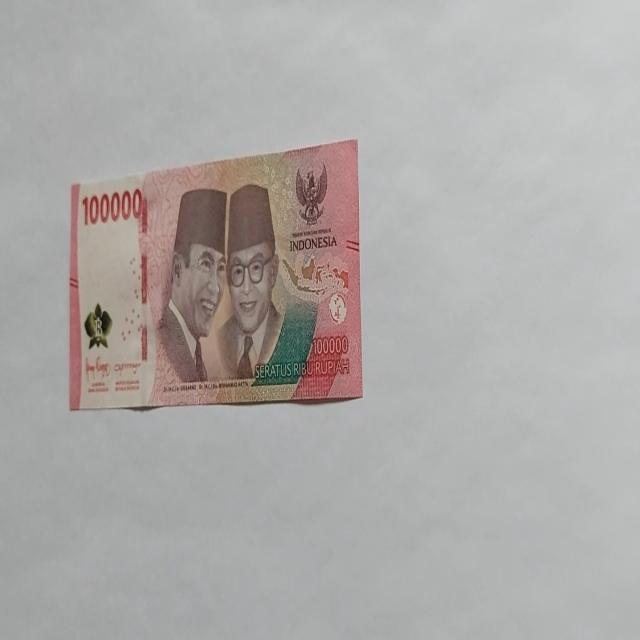seratus ribu rupiah: (69, 138, 363, 410)
